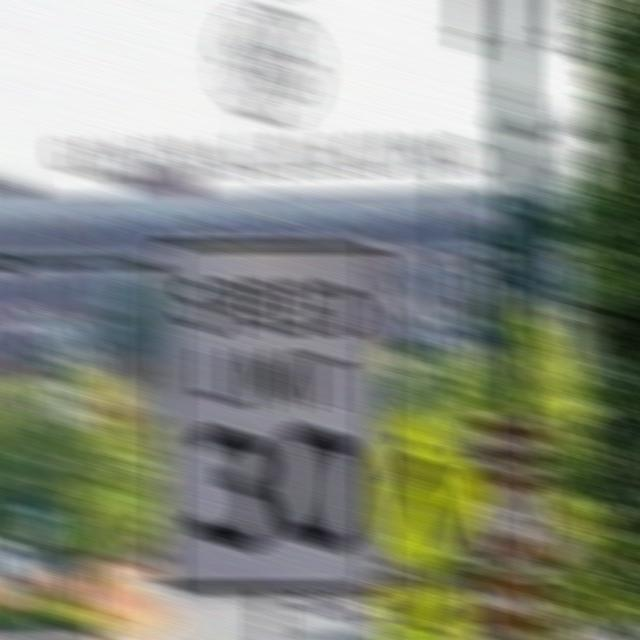speedLimit30: (143, 225, 389, 598)
